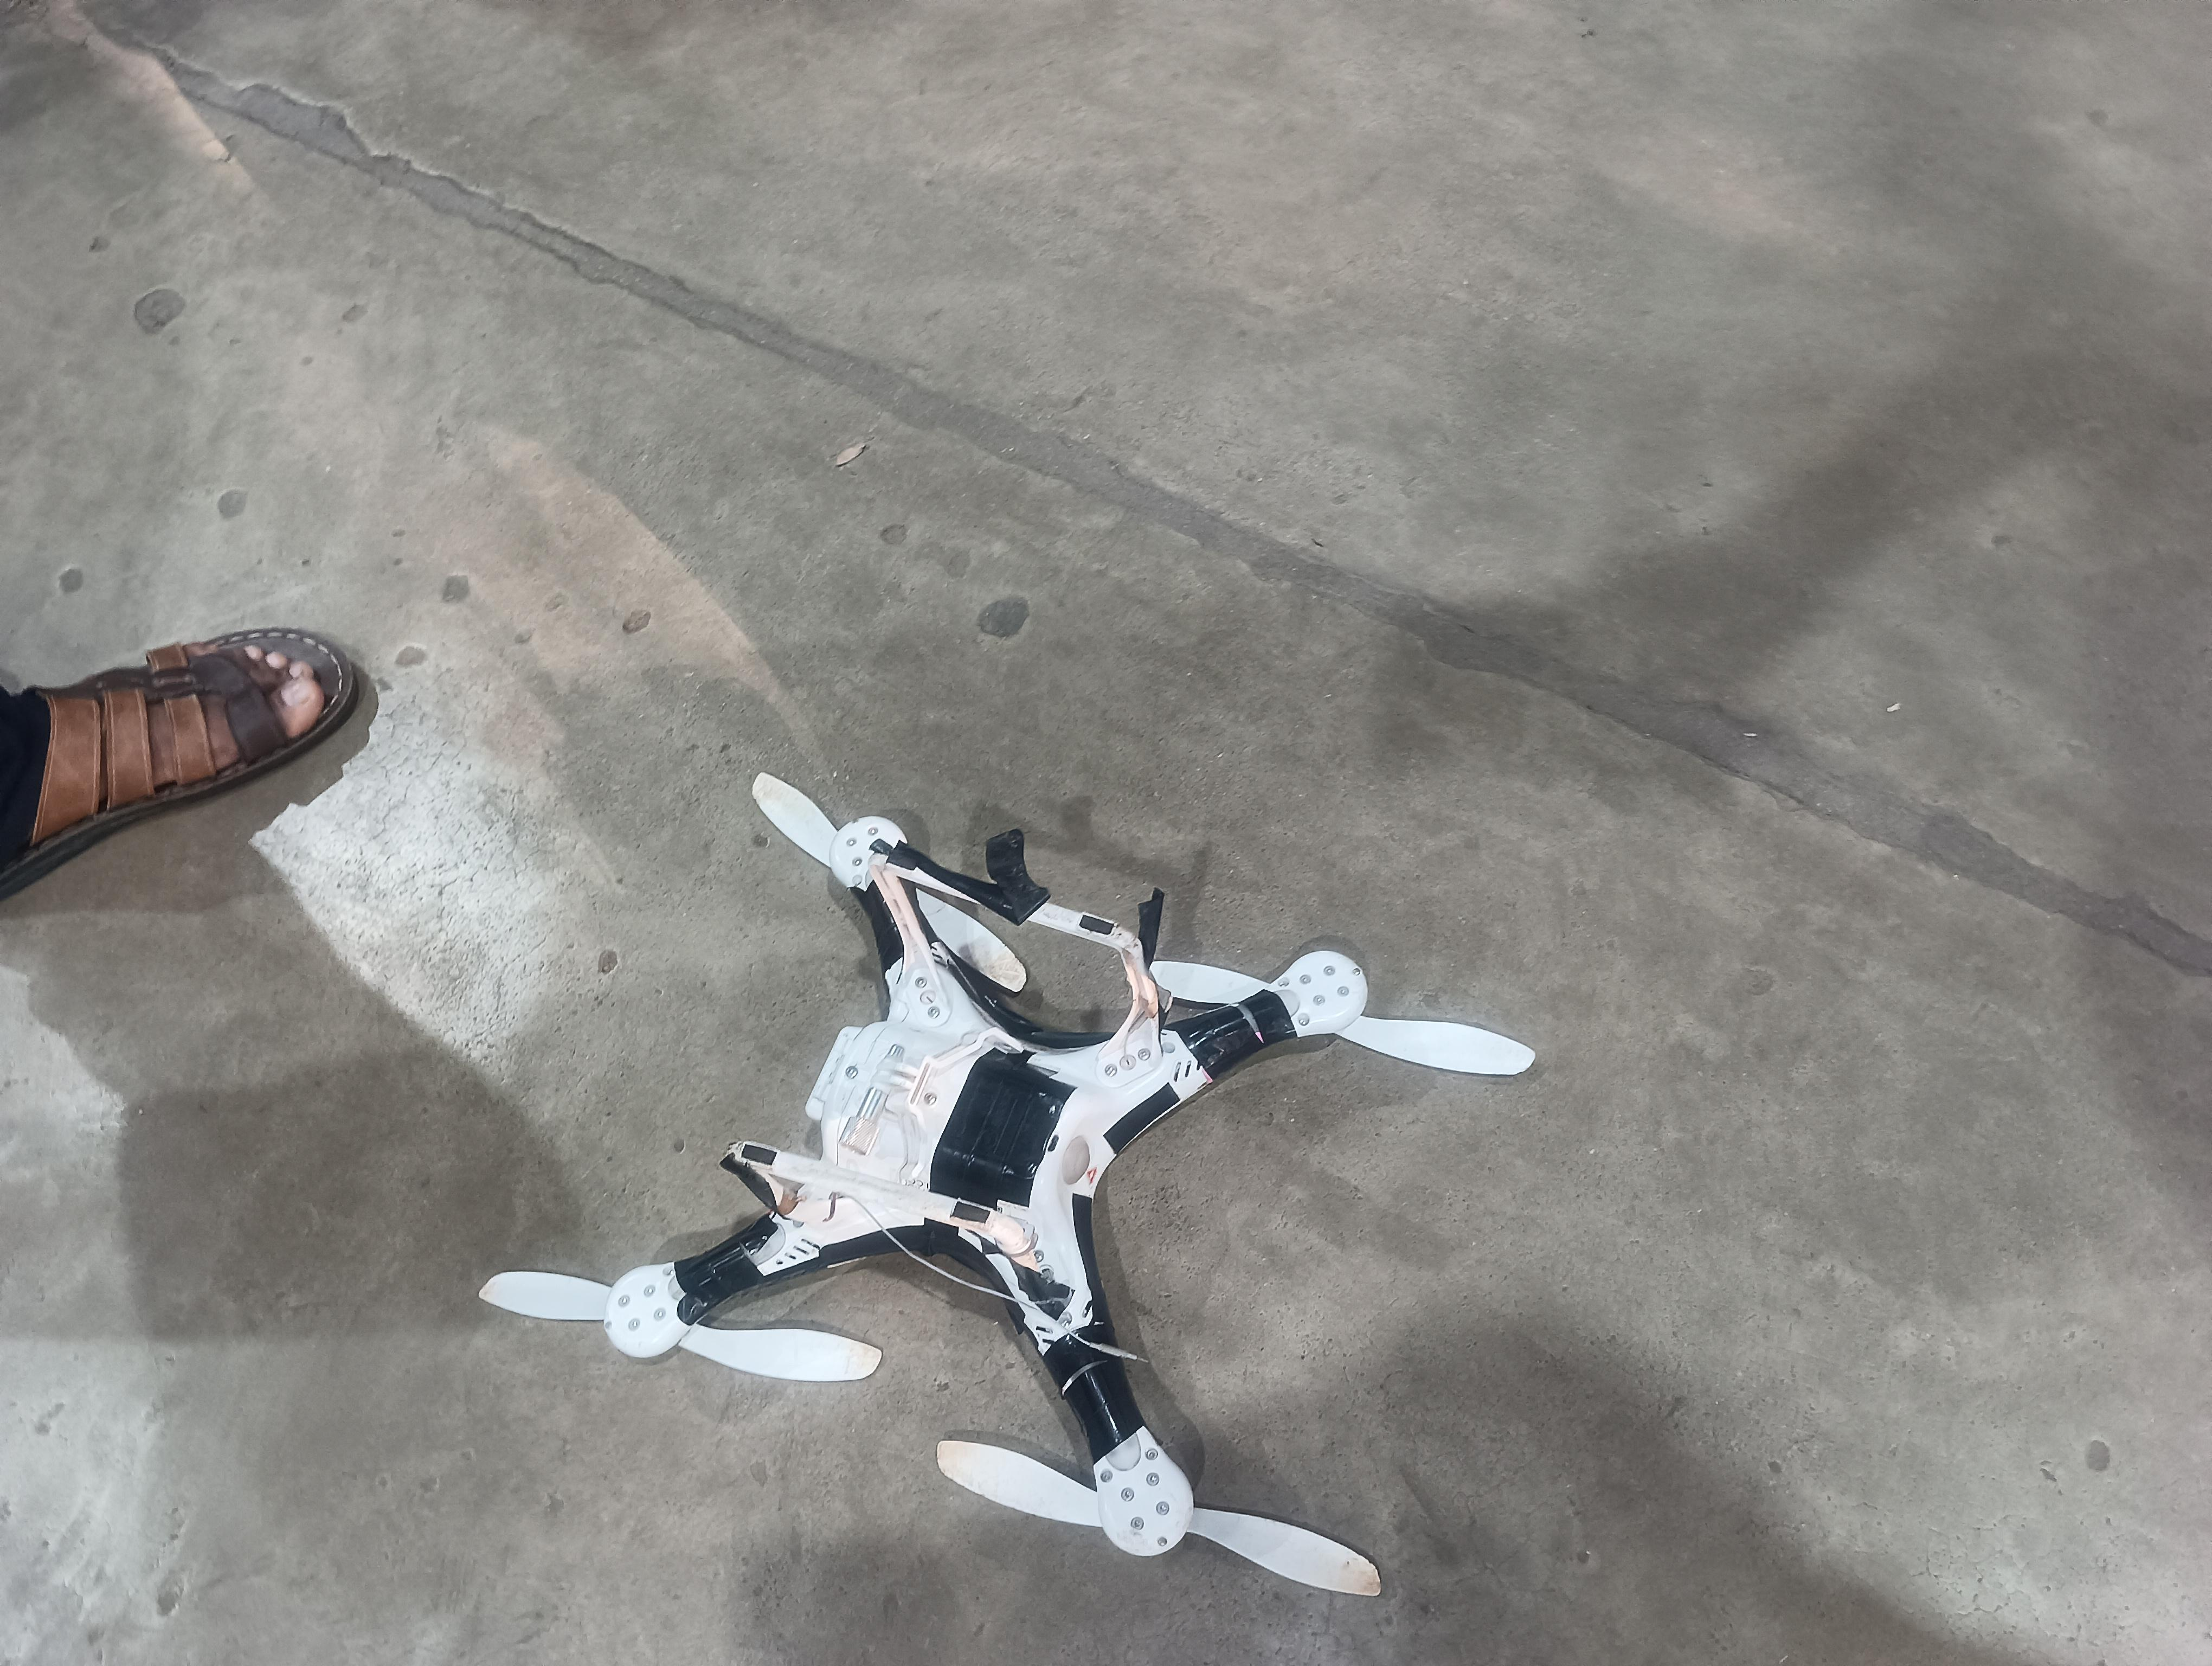drone: (446, 728, 1513, 1636)
